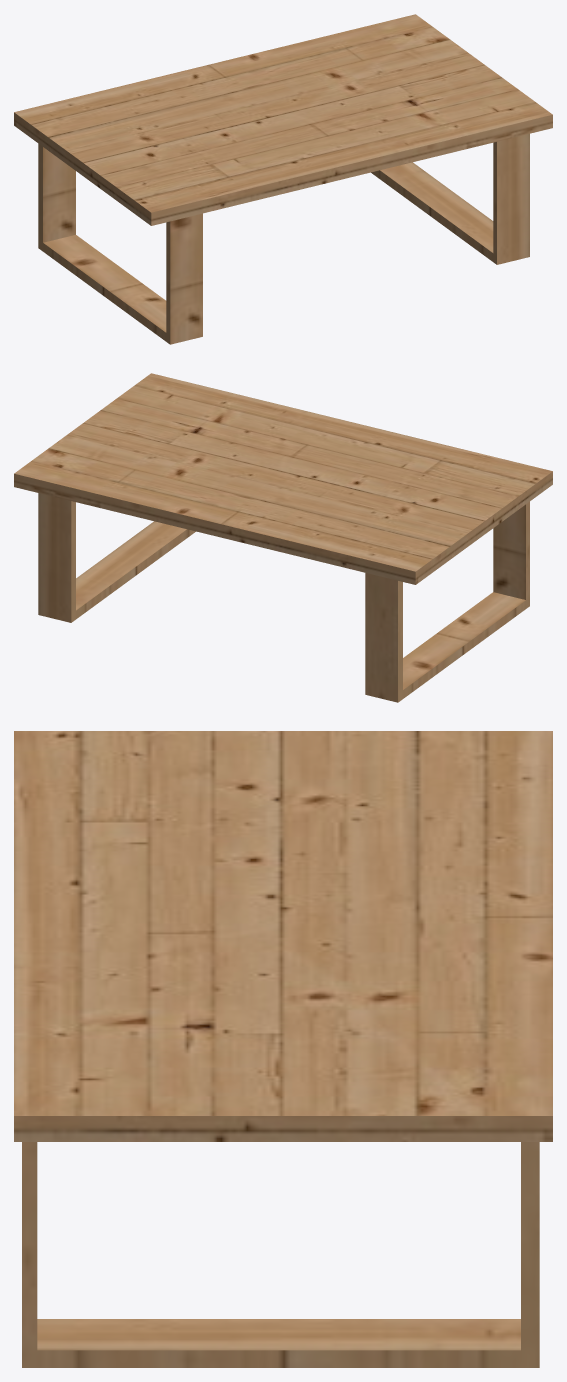
File: Table_25.glb
3 views of the same model, one above another, from view 1: azimuth 30°, elevation 25°; view 2: azimuth 150°, elevation 25°; view 3: azimuth 270°, elevation 25° (orthographic). The views are drawn at different scales.
Visible parts, largest first — view 1: Table_25; view 2: Table_25; view 3: Table_25.
Part boxes in pixels (left/top/right/bottom): Table_25: left=14, top=14, right=552, bottom=344; Table_25: left=14, top=373, right=552, bottom=702; Table_25: left=14, top=731, right=552, bottom=1367.
Bounding box in the file's own units: 1.49 × 0.4902 × 0.8796.
Materials: 1 (1 with a texture image).
